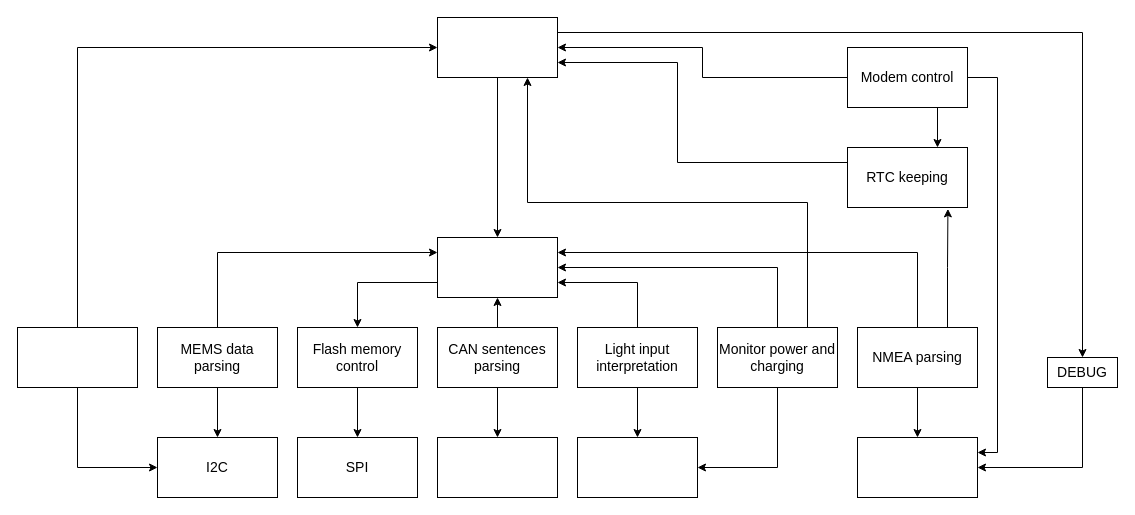
Some shapes in this 1135 by 515 pixel diagram are drawn without their labels. The centre of each missing label's shape, as x and y in pixels:
"ADC" goes at (x=637, y=467).
"CAN interface" goes at (x=497, y=467).
"EEPROM Non volatile settings control" goes at (x=77, y=357).
"Main" goes at (x=497, y=47).
"Report generation" goes at (x=497, y=267).
"UART" goes at (x=917, y=467).
